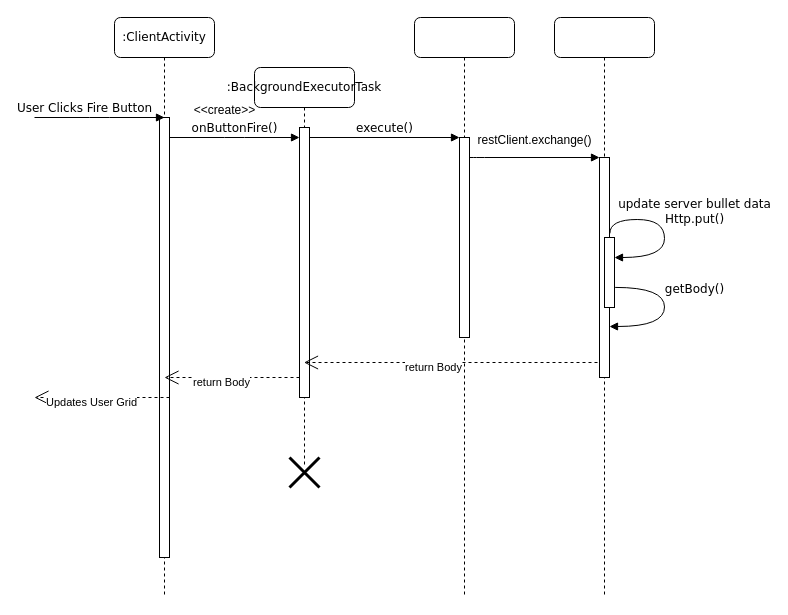
Some shapes in this 788 by 615 pixel diagram are drawn without their labels. Here are the shapes that lost their labels. From the top down, the centre of each, then its label:
At (x=464, y=307): "BZRC: BulletZoneRestClient".
At (x=604, y=307): "Server".
